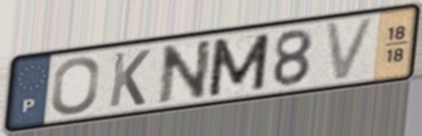8: (272, 27, 314, 89)
K: (106, 47, 153, 110)
M: (205, 30, 273, 99)
N: (157, 36, 215, 106)
O: (49, 55, 102, 117)
V: (322, 14, 380, 85)
